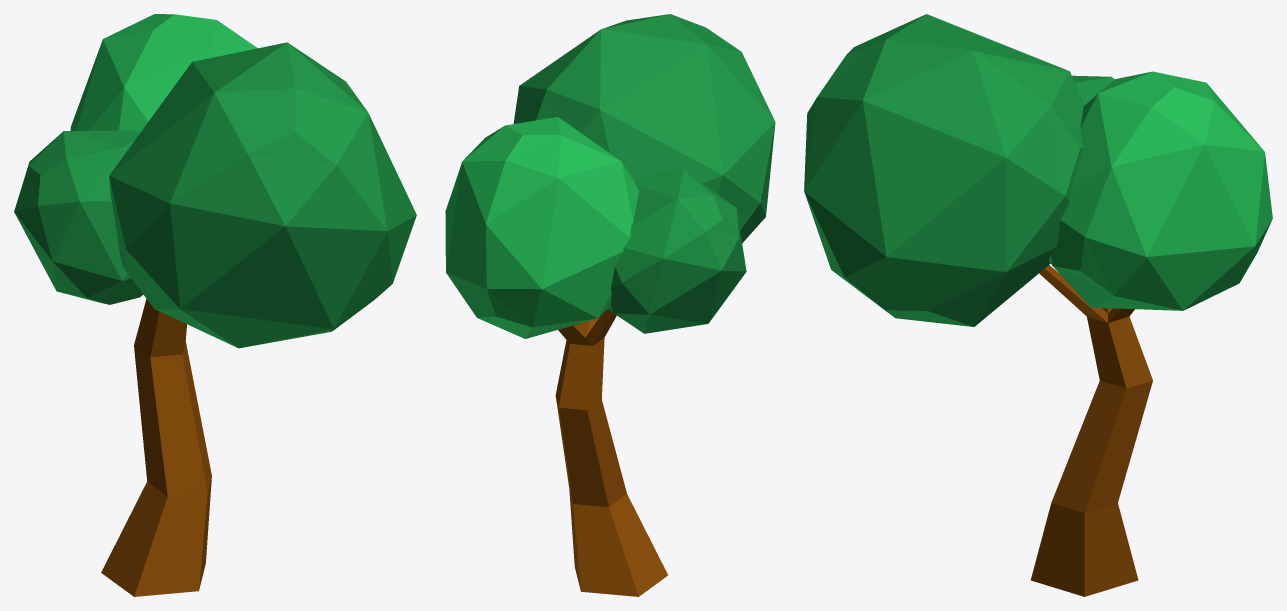
The model's file is stm_env_tree1.fbx.
The picture shows the model from 3 angles, left to right: view 1: azimuth 30°, elevation 25°; view 2: azimuth 150°, elevation 25°; view 3: azimuth 270°, elevation 25°; orthographic projection. The views are drawn at different scales.
Visible parts, largest first — view 1: Sphere, Cylinder, Sphere_2, Sphere_1; view 2: Sphere_1, Sphere, Sphere_2, Cylinder; view 3: Sphere, Sphere_1, Cylinder, Sphere_2.
Boxes of the visible parts, box(x1,y1,x2,y2) form: Sphere: box(109, 42, 416, 348); Cylinder: box(101, 299, 211, 596); Sphere_2: box(14, 130, 143, 304); Sphere_1: box(70, 14, 257, 131); Sphere_1: box(445, 117, 639, 338); Sphere: box(513, 14, 775, 243); Sphere_2: box(608, 169, 746, 333); Cylinder: box(555, 309, 667, 596); Sphere: box(804, 14, 1084, 326); Sphere_1: box(1049, 71, 1272, 310); Cylinder: box(1031, 265, 1152, 596); Sphere_2: box(1072, 75, 1114, 105).
Bounding box in the file's own units: 1059 × 1923 × 1462.
